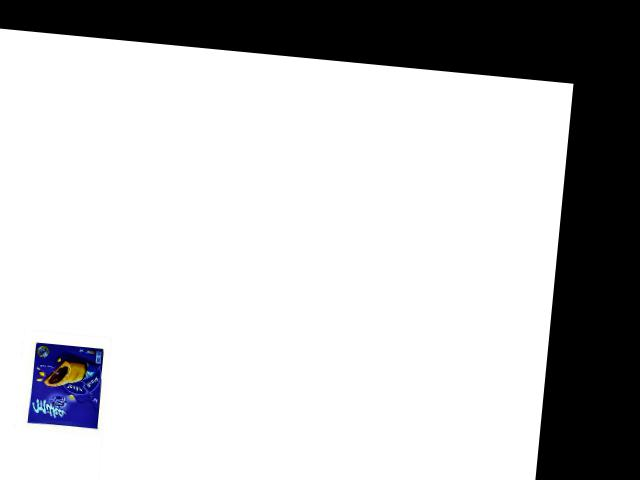chocolate: (23, 336, 108, 434)
